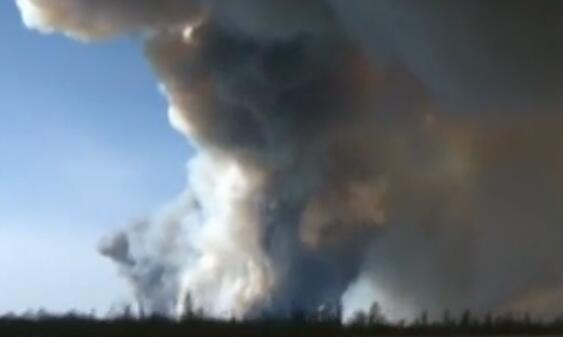yanwu: (96, 0, 563, 320)
